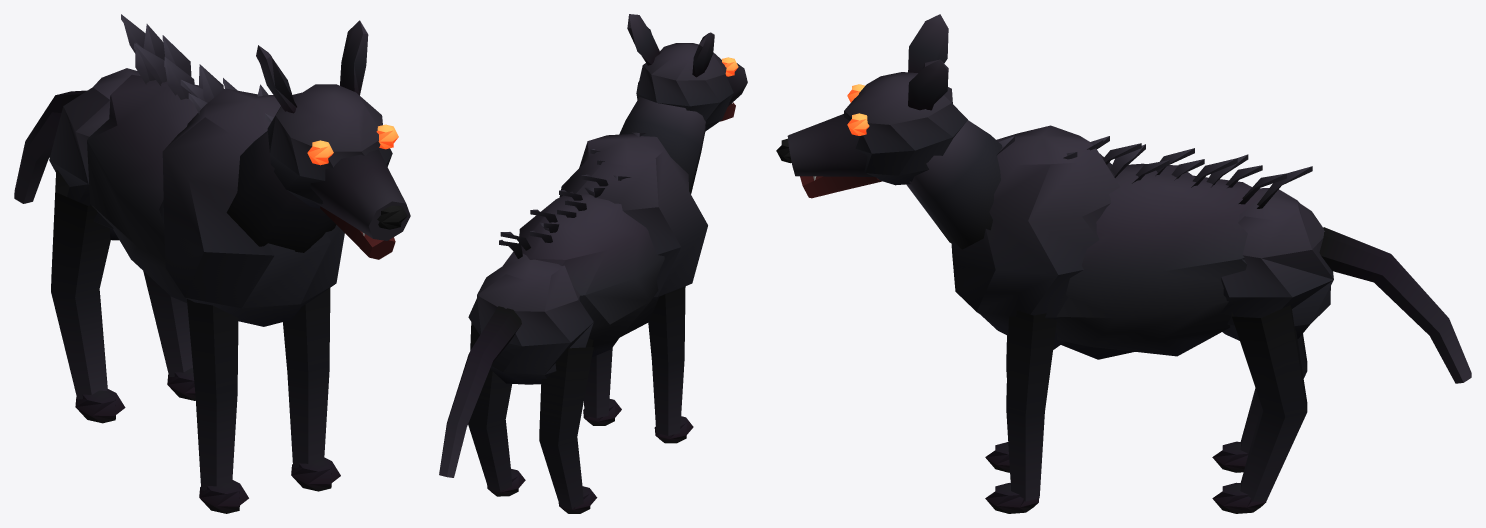
The model's file is black_dog.glb.
The picture shows the model from 3 angles, left to right: view 1: azimuth 30°, elevation 25°; view 2: azimuth 150°, elevation 25°; view 3: azimuth 270°, elevation 25°; orthographic projection. The views are drawn at different scales.
Parts seen in each view (by area): view 1: body, head, leg_BR, leg_FR, leg_FL, leg_BL, tail, head_glow; view 2: body, head, leg_BR, leg_FR, tail, leg_BL, leg_FL; view 3: body, head, leg_BL, leg_FL, tail, leg_BR.
Part boxes in pixels (x1=…): body: x1=49, y1=14, x2=344, y2=326; head: x1=226, y1=20, x2=410, y2=259; leg_BR: x1=51, y1=170, x2=125, y2=423; leg_FR: x1=187, y1=299, x2=248, y2=513; leg_FL: x1=283, y1=288, x2=340, y2=491; leg_BL: x1=143, y1=271, x2=195, y2=400; tail: x1=14, y1=90, x2=87, y2=203; head_glow: x1=307, y1=124, x2=398, y2=165; body: x1=468, y1=132, x2=707, y2=384; head: x1=619, y1=14, x2=747, y2=193; leg_BR: x1=539, y1=338, x2=597, y2=513; leg_FR: x1=648, y1=286, x2=693, y2=443; tail: x1=439, y1=306, x2=521, y2=477; leg_BL: x1=468, y1=322, x2=525, y2=496; leg_FL: x1=583, y1=348, x2=621, y2=425; body: x1=951, y1=125, x2=1333, y2=359; head: x1=776, y1=14, x2=1002, y2=249; leg_BL: x1=1212, y1=304, x2=1307, y2=513; leg_FL: x1=985, y1=310, x2=1056, y2=513; tail: x1=1319, y1=227, x2=1471, y2=383; leg_BR: x1=1212, y1=334, x2=1307, y2=472.
Size of the model in its own units: 0.4217 by 1.23 by 1.71.
